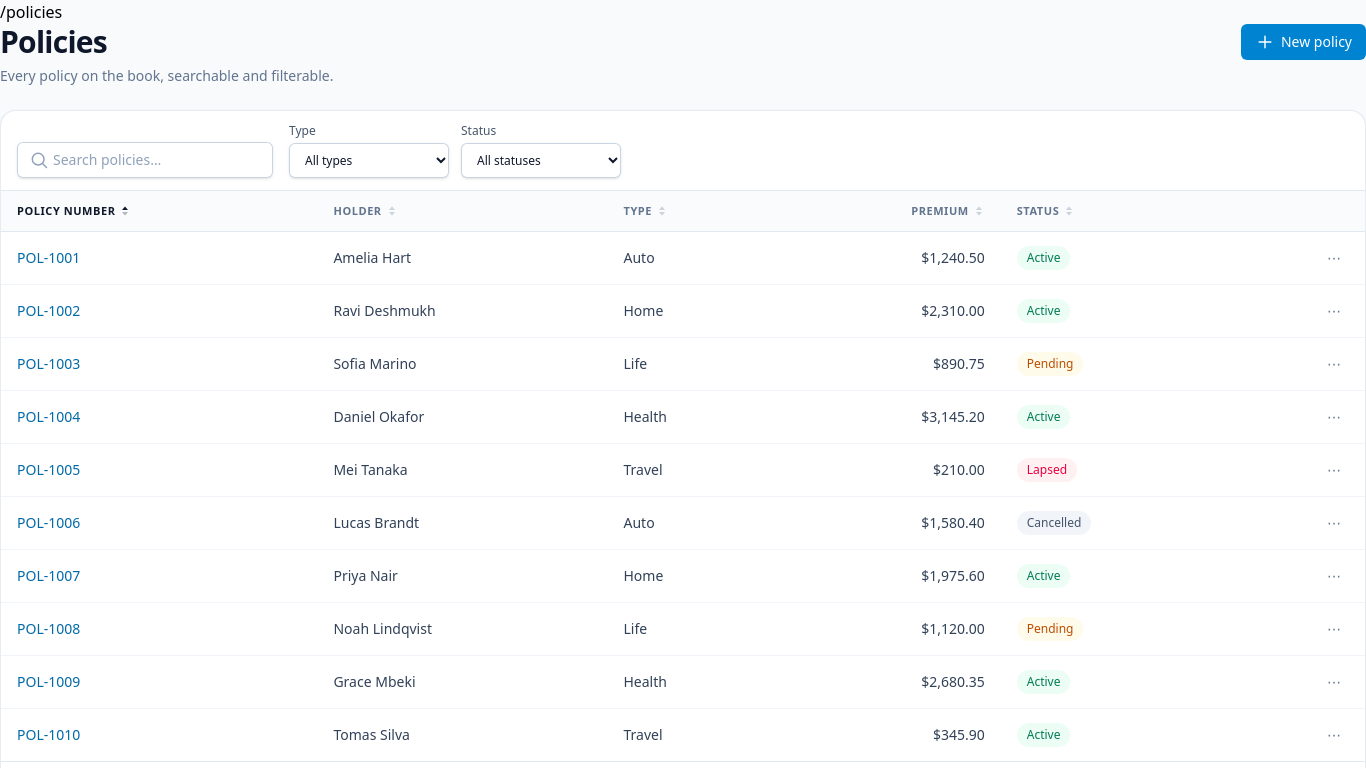
Test case: PolicyListPage › deletes a policy after confirmation
Expected: the link "POL-1001" is shown, [17, 248, 80, 267]
Click the button "⋯" in the row of "POL-1001" at (1334, 258), box [1319, 244, 1349, 272]
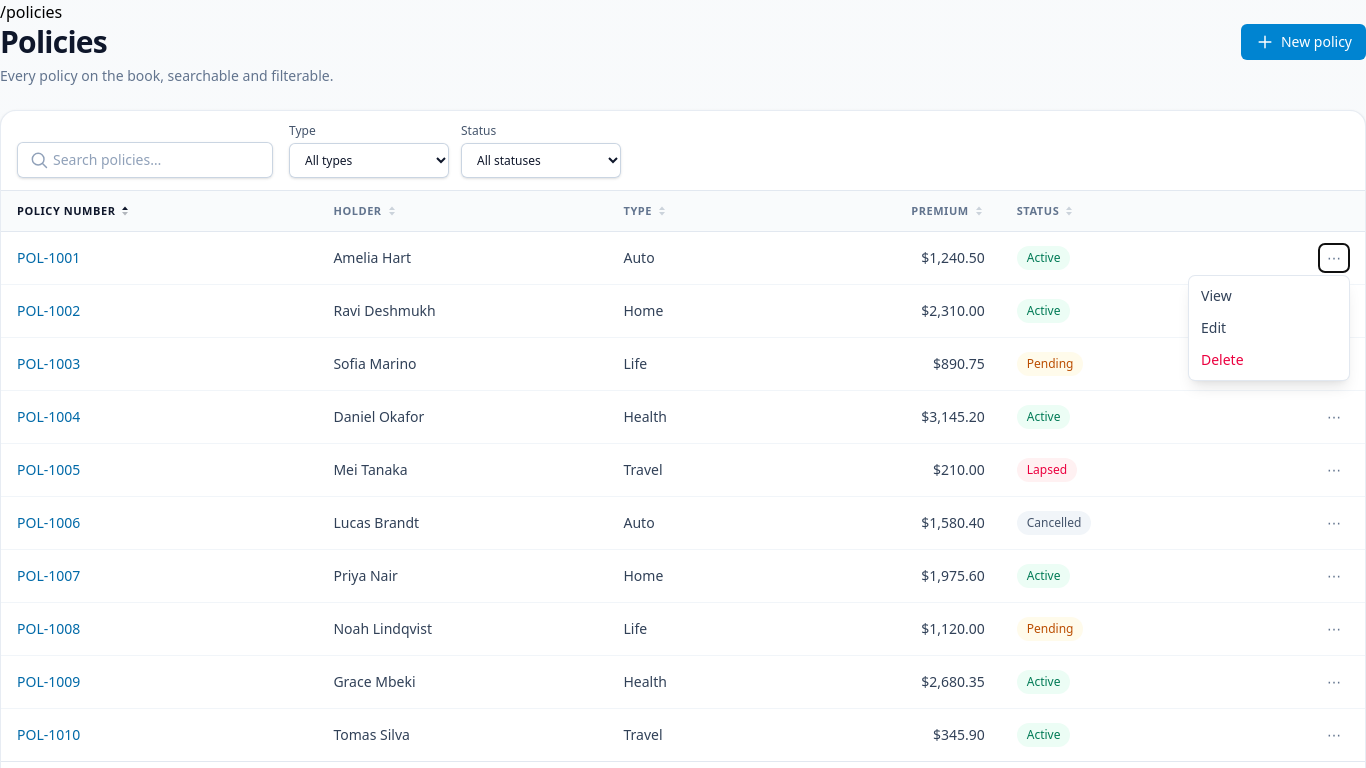
Click the menu item "Delete" at (1269, 360), box [1189, 344, 1349, 376]
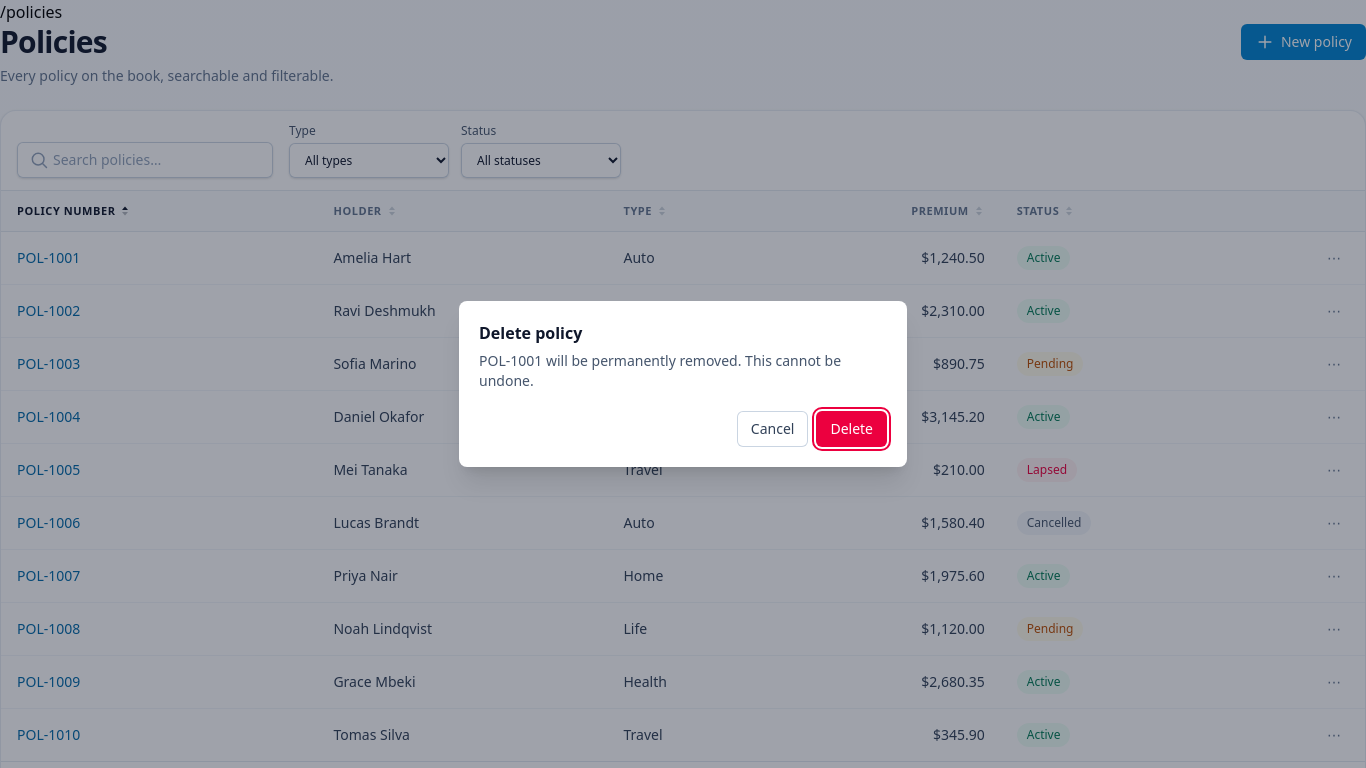
Click the button "Delete" at (852, 429), box [816, 411, 887, 447]
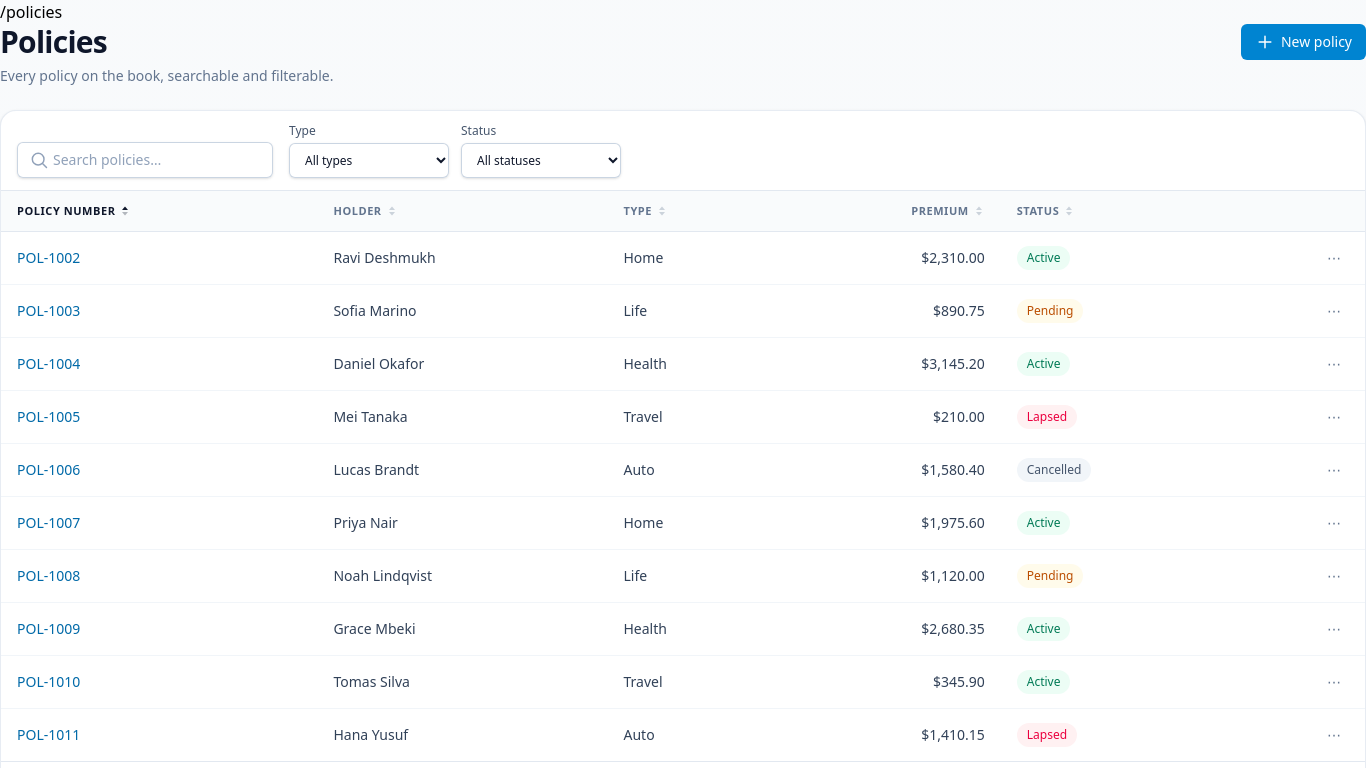
Expected: the link "POL-1001" is gone
